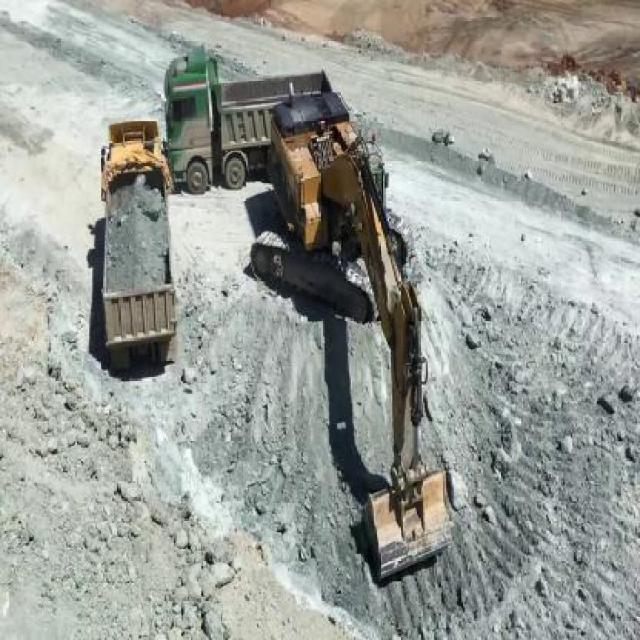Dump Truck: (91, 122, 178, 367), (154, 50, 280, 192)
Excavator: (243, 80, 452, 586)
